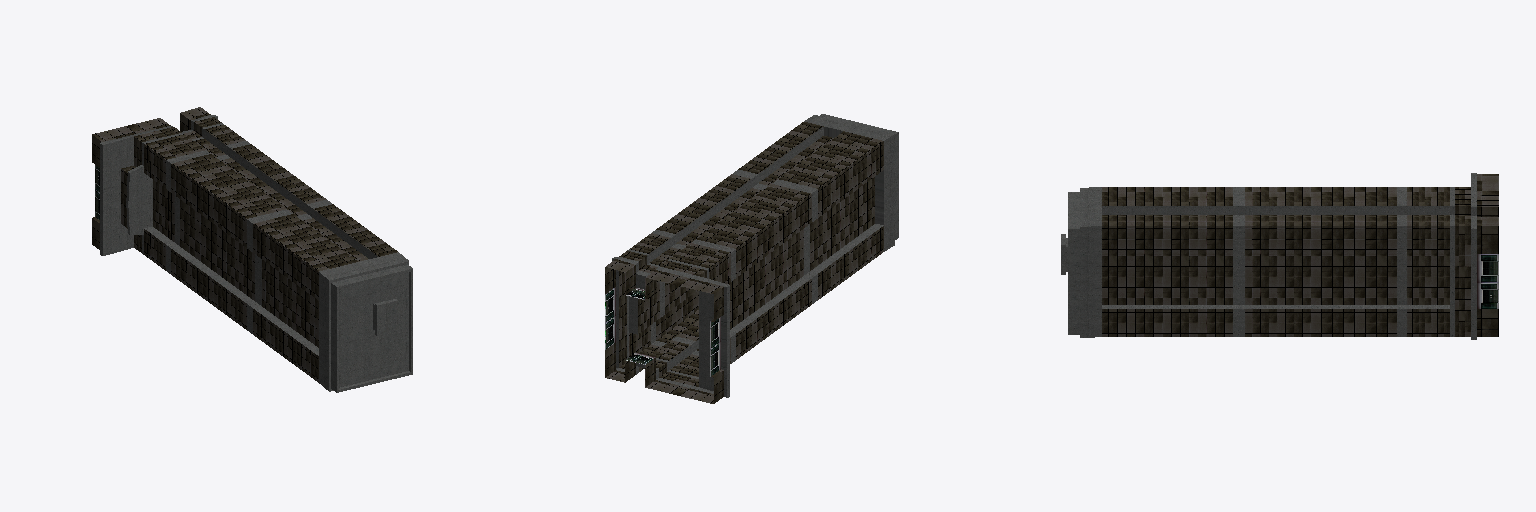
The picture shows the model from 3 angles: view 1: azimuth 30°, elevation 25°; view 2: azimuth 150°, elevation 25°; view 3: azimuth 270°, elevation 25°; orthographic projection.
Parts seen in each view (by area): view 1: Object27; view 2: Object27; view 3: Object27.
Boxes of the visible parts, <box> form: Object27: <box>92,107,412,392</box>; Object27: <box>605,114,898,403</box>; Object27: <box>1061,173,1498,339</box>.
Bounding box in the file's own units: 44.55 × 41.32 × 146.
Materials: 3 (3 with a texture image).